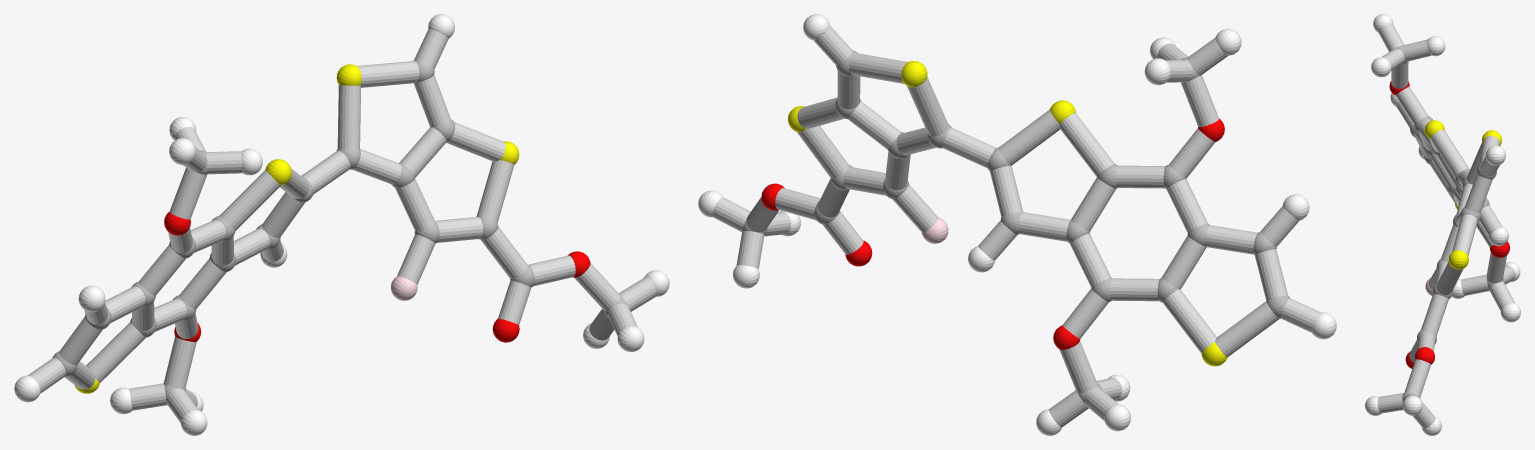
Rendered from color.glb.
3 views of the same model, side by side, from view 1: azimuth 30°, elevation 25°; view 2: azimuth 150°, elevation 25°; view 3: azimuth 270°, elevation 25° (orthographic). The views are drawn at different scales.
Visible parts, largest first — view 1: grp15205, grp8689, grp1, grp13395, grp7241; view 2: grp15205, grp8689, grp1, grp7241, grp13395; view 3: grp15205, grp8689, grp1, grp7241, grp13395.
Part boxes in pixels (bbox=[...]): grp15205: bbox=[27, 29, 656, 422]; grp8689: bbox=[14, 14, 669, 435]; grp1: bbox=[52, 60, 627, 405]; grp13395: bbox=[164, 211, 590, 342]; grp7241: bbox=[74, 64, 519, 393]; grp15205: bbox=[712, 26, 1320, 427]; grp8689: bbox=[698, 14, 1336, 435]; grp1: bbox=[742, 50, 1289, 402]; grp7241: bbox=[788, 61, 1227, 366]; grp13395: bbox=[761, 118, 1224, 349]; grp15205: bbox=[1377, 24, 1515, 428]; grp8689: bbox=[1365, 14, 1520, 435]; grp1: bbox=[1394, 45, 1504, 399]; grp7241: bbox=[1424, 120, 1501, 269]; grp13395: bbox=[1389, 81, 1509, 368].
Bounding box in the file's own units: 16.5 × 8.91 × 4.62.
